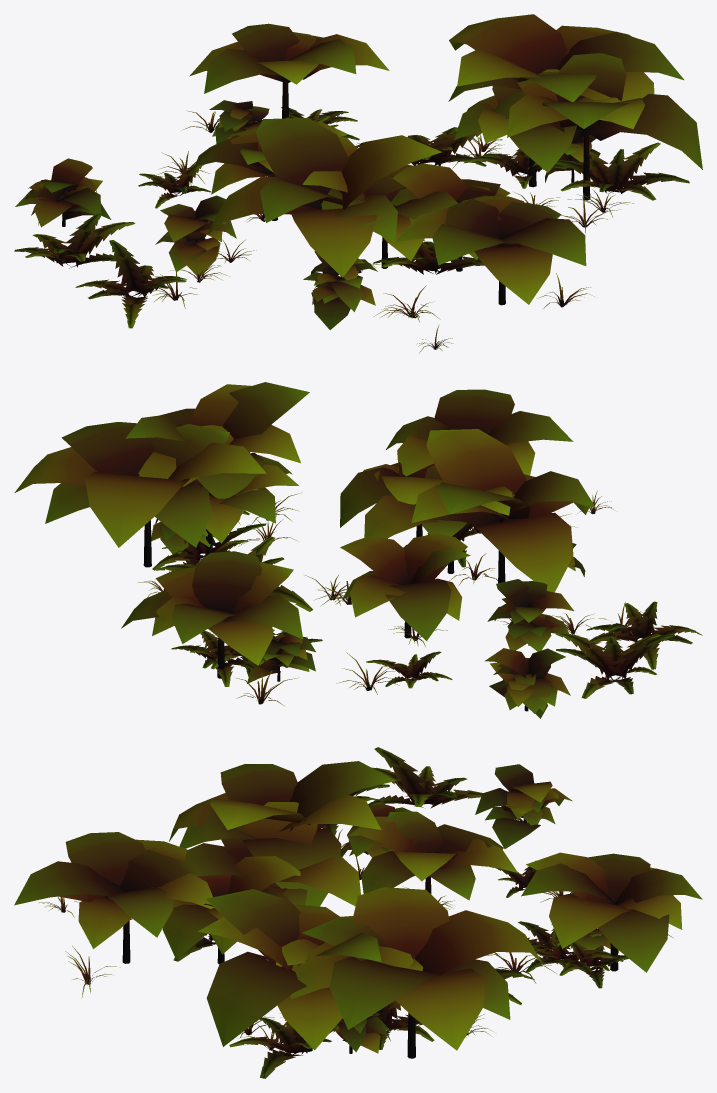
File: patch_banana.glb
3 renders of one model, top to bottom at view 1: azimuth 30°, elevation 25°; view 2: azimuth 150°, elevation 25°; view 3: azimuth 270°, elevation 25°, orthographic. The views are drawn at different scales.
Visible parts, largest first — view 1: patch_banana; view 2: patch_banana; view 3: patch_banana.
Part boxes in pixels (bbox=[...]): patch_banana: bbox=[14, 14, 702, 353]; patch_banana: bbox=[14, 382, 702, 718]; patch_banana: bbox=[14, 747, 702, 1078].
Bounding box in the file's own units: 14.32 × 3.02 × 12.85.
1 material, 1 textured.
